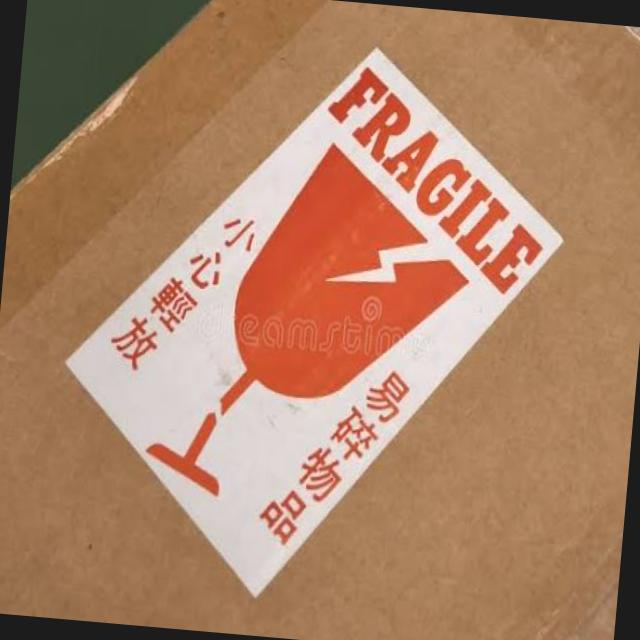fragile_label: (63, 36, 567, 599)
